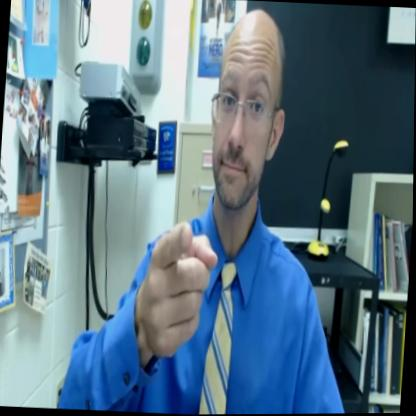HowAreYou: (114, 4, 340, 415)
